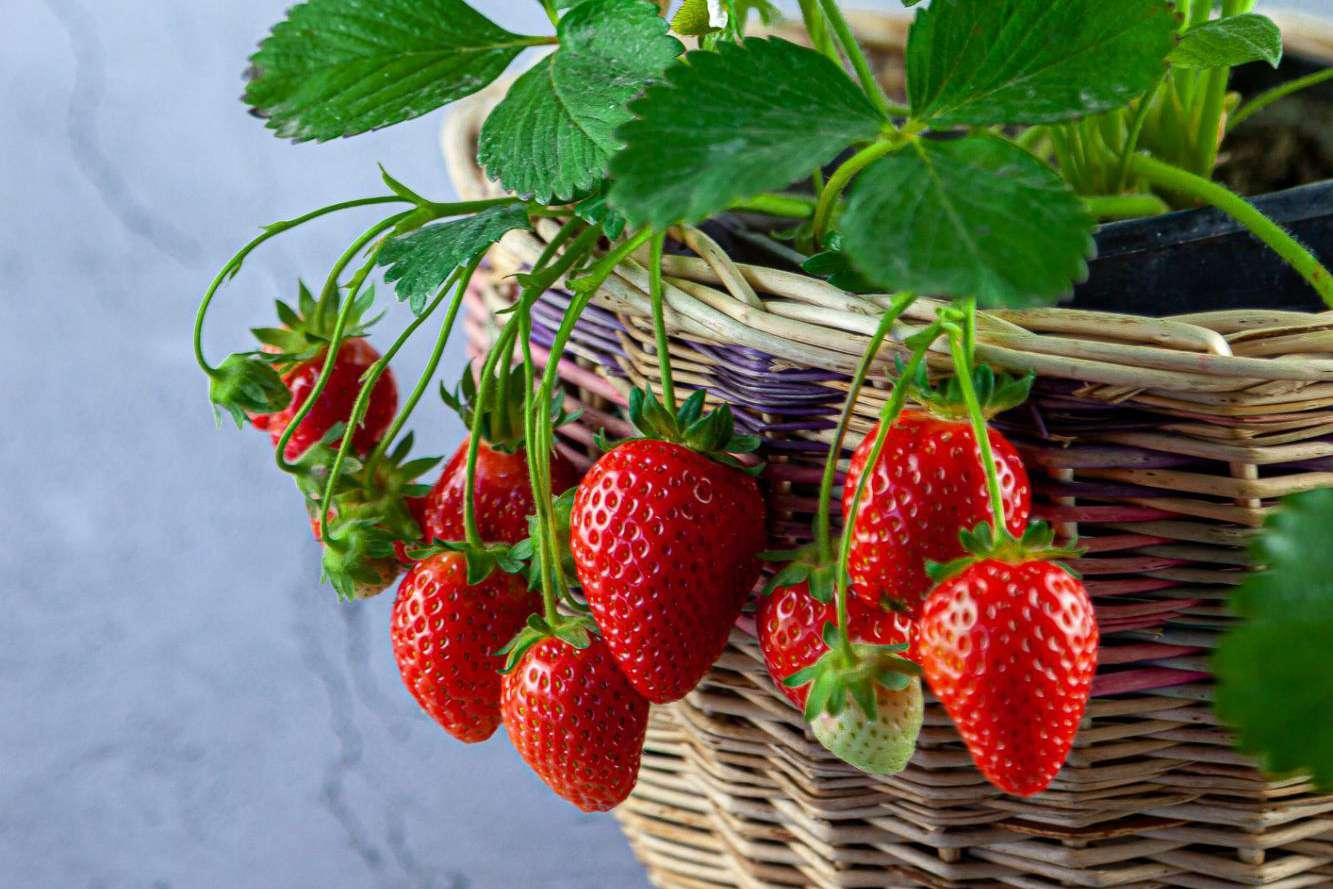strawberry: (555, 382, 763, 721), (913, 525, 1105, 789), (847, 385, 1028, 608), (500, 615, 663, 825), (390, 525, 523, 752)
